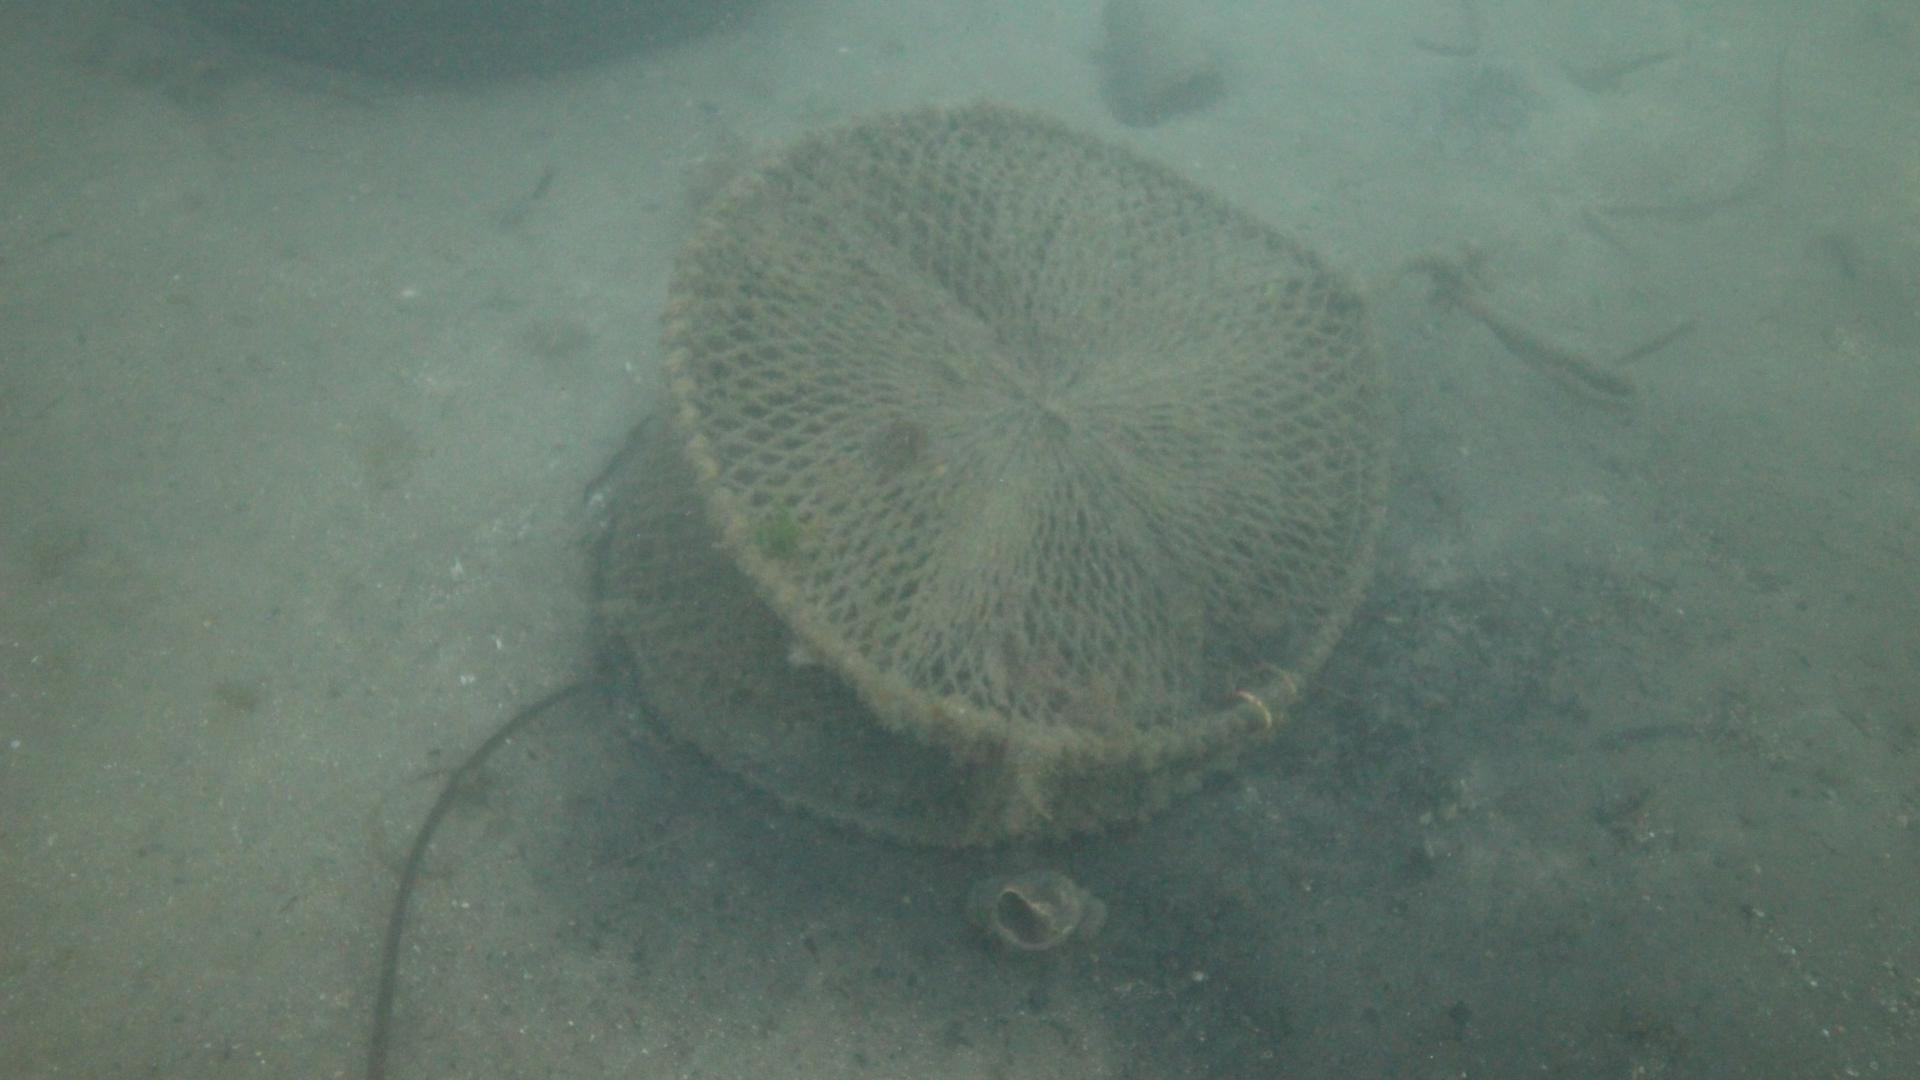circular fish trap: (596, 98, 1400, 849)
rope: (1381, 245, 1635, 404)
